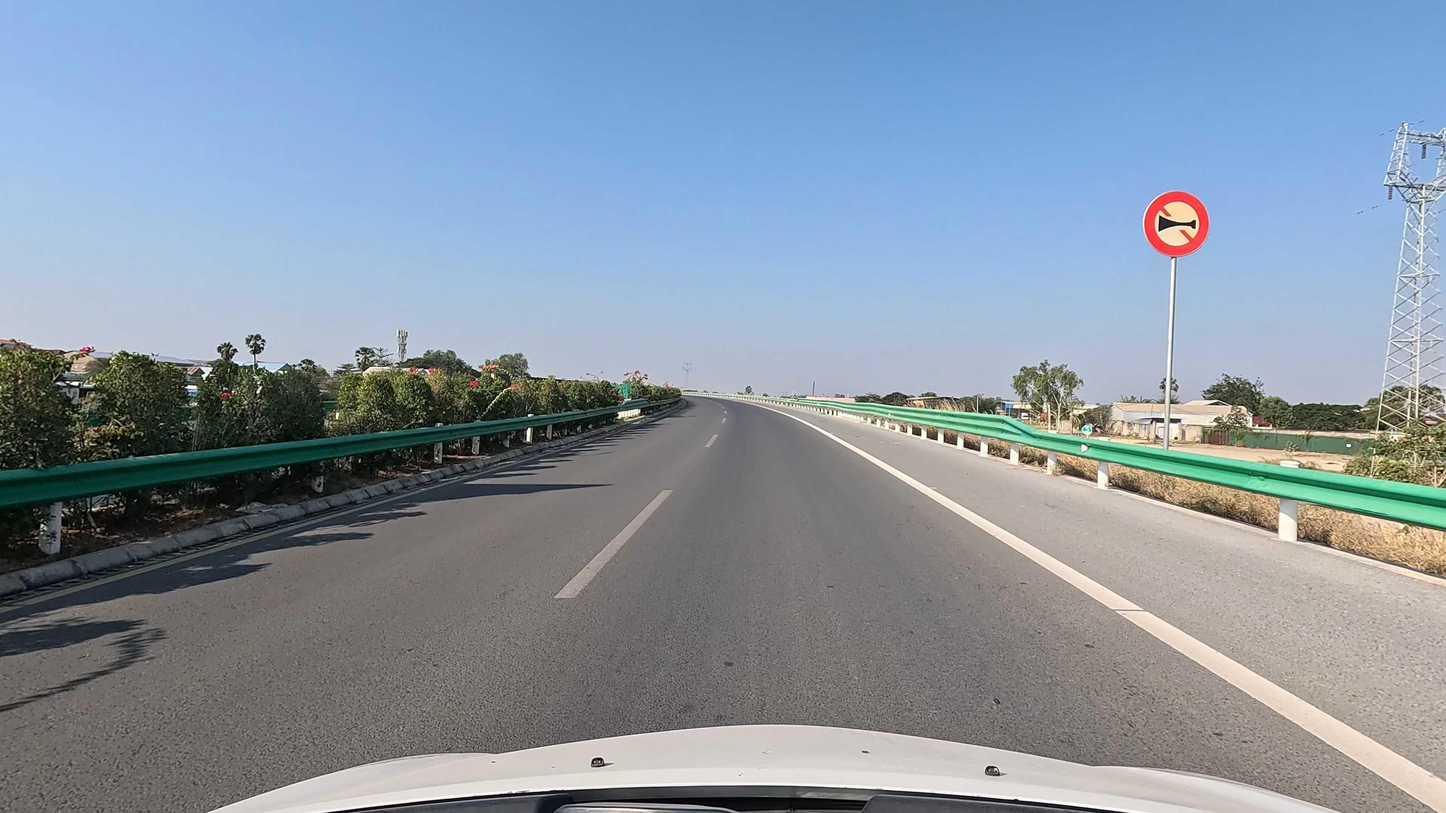no_honking: (1141, 183, 1210, 258)
